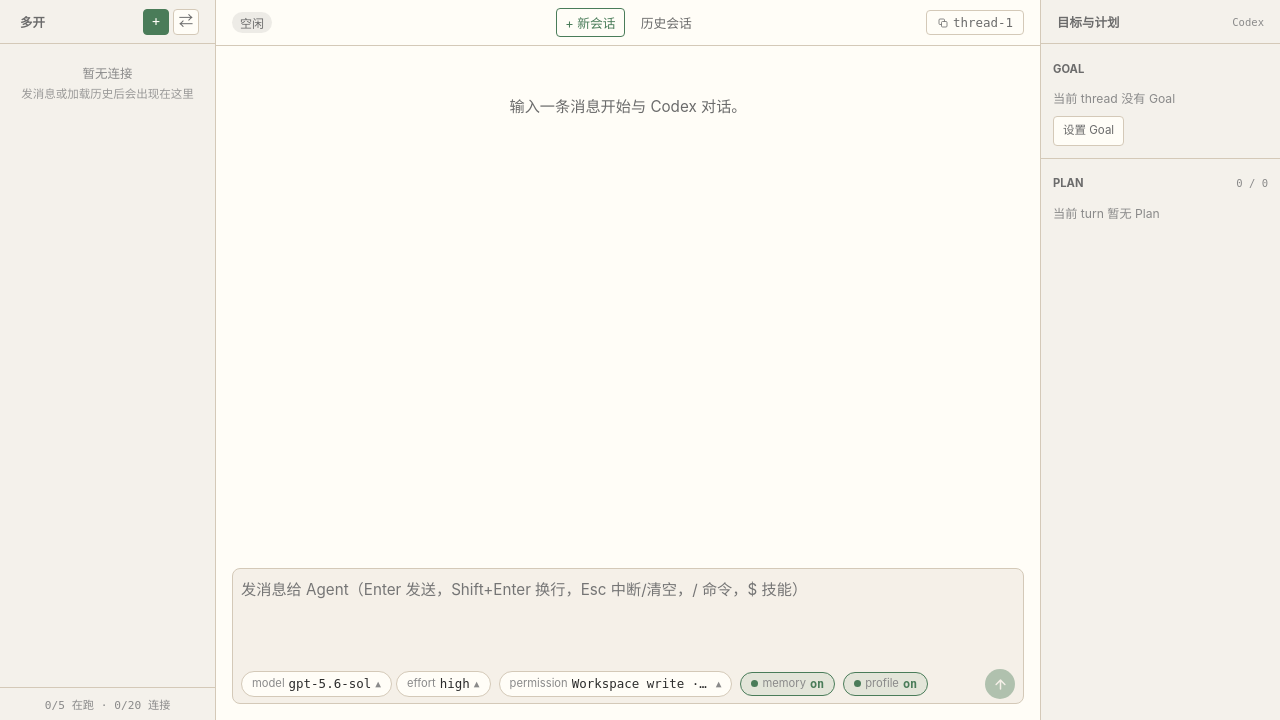
Test: SessionView › routes /compact to its command API and keeps it out of turns
This screenshot has width=1280, height=720.
Type "/compact" into the text box named "Agent 消息输入" at point(628, 617), box x1=233 y1=569 x2=1023 y2=665
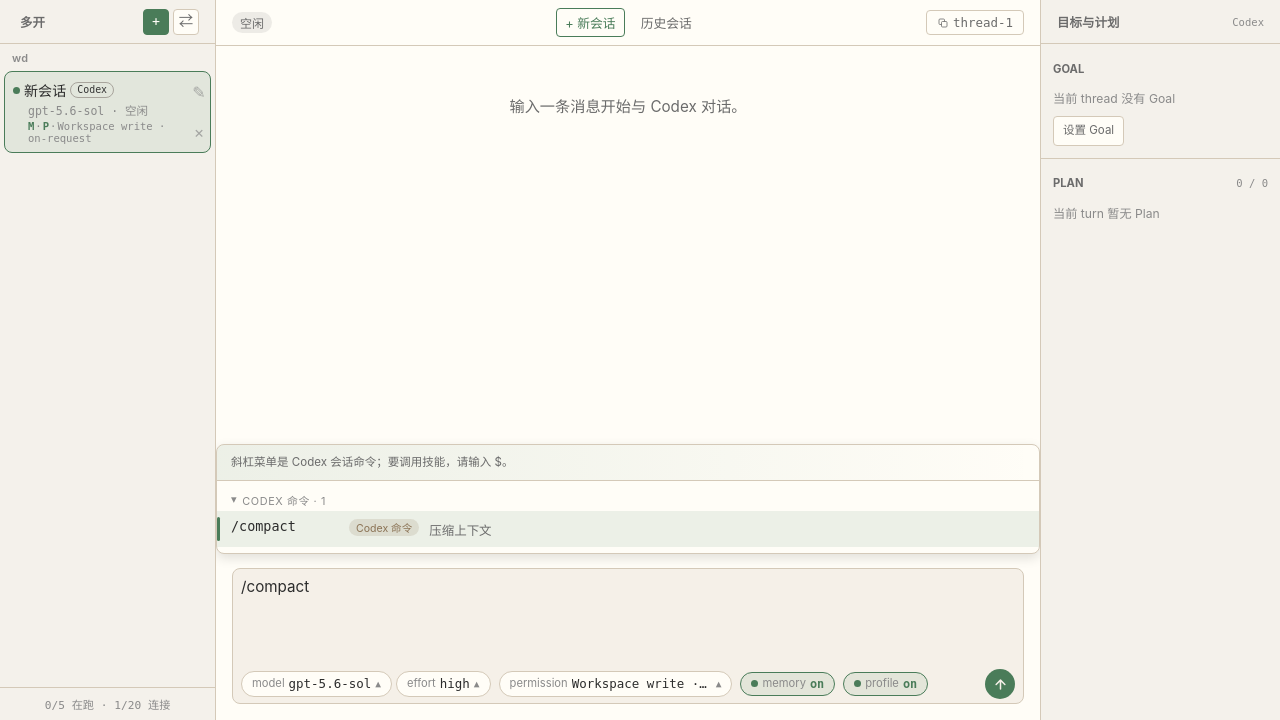
Click the option "/compact Codex 命令 压缩上下文" at point(267, 526), box x1=217 y1=511 x2=1039 y2=547
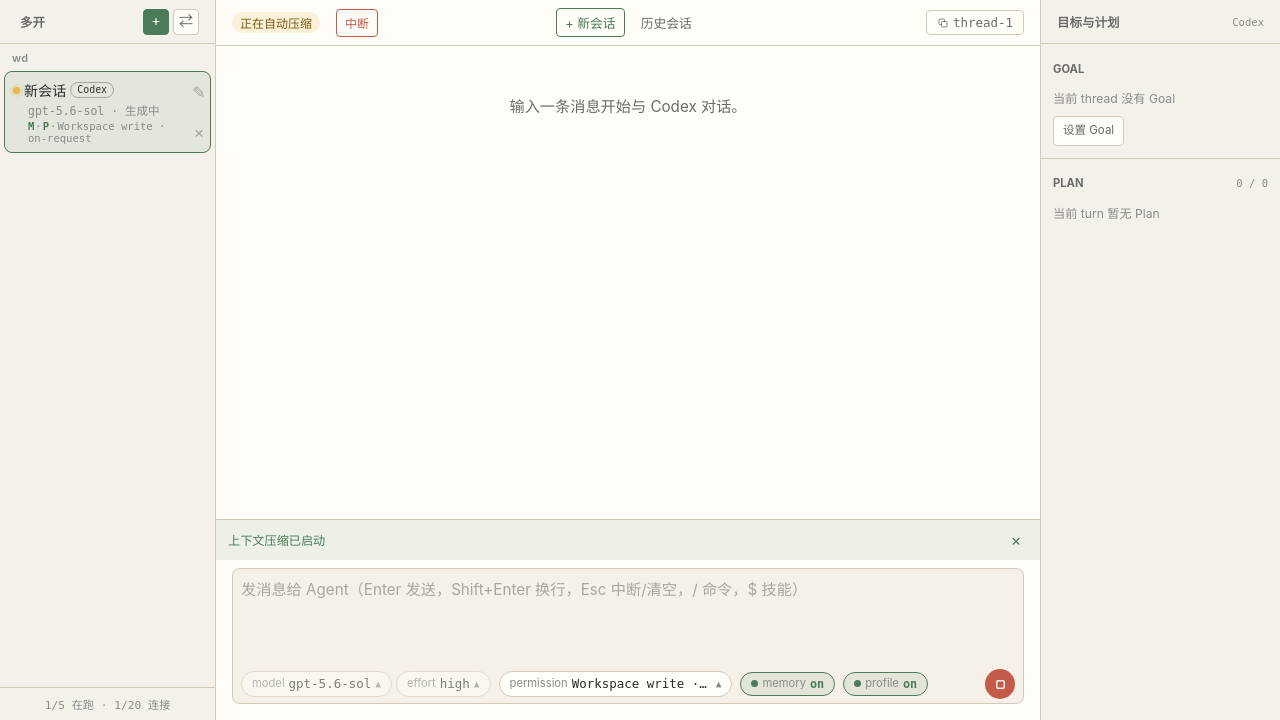
Result: the text "上下文压缩已启动" is shown at x1=228 y1=531 x2=325 y2=549
